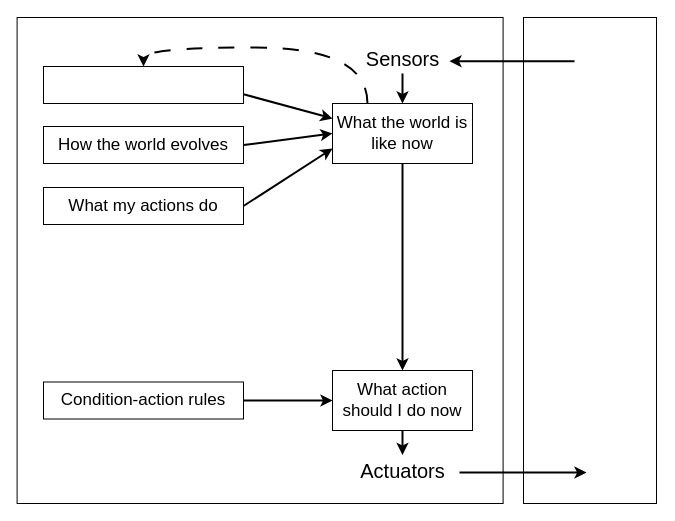
The diagram is 675 pixels wide and 521 high, and some of its shapes have lost their labels. Each missing label, with the box of its shape:
Environment: (522, 16, 656, 504)
State: (42, 66, 244, 104)
